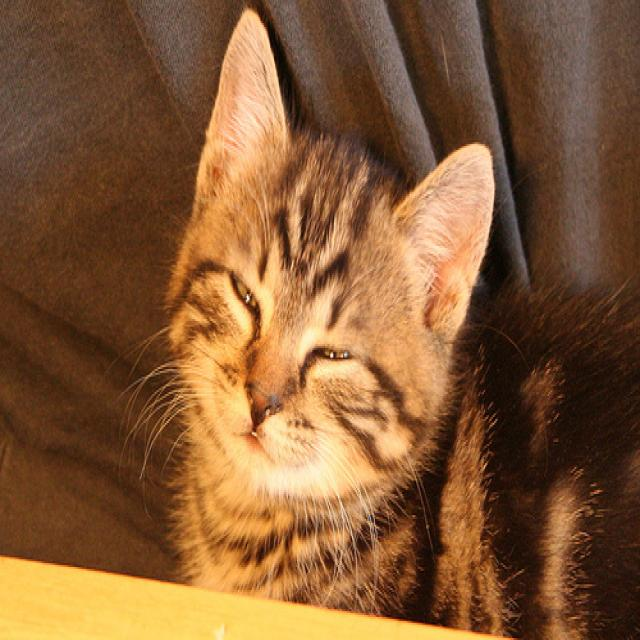left eye: (311, 340, 353, 363)
